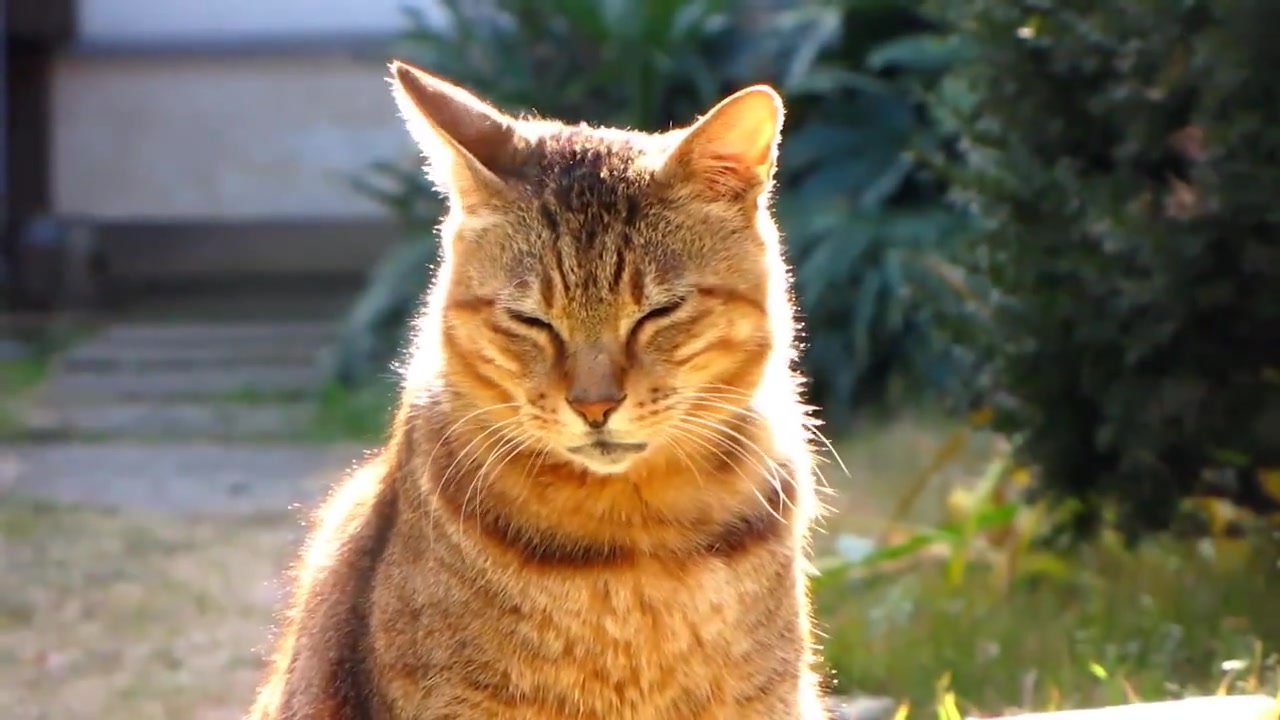cat: (250, 53, 834, 718)
